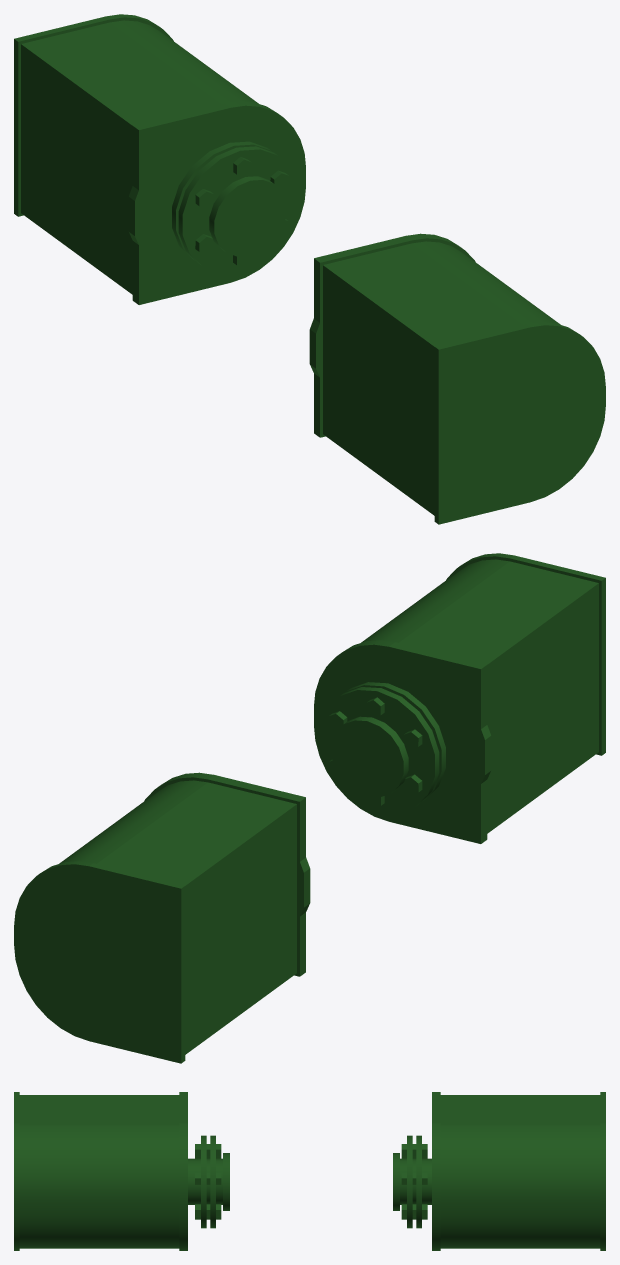
Rendered from Pump-Central-2.fbx.
The picture shows the model from 3 angles, top to bottom: view 1: azimuth 30°, elevation 25°; view 2: azimuth 150°, elevation 25°; view 3: azimuth 270°, elevation 25°; orthographic projection. The views are drawn at different scales.
Visible parts, largest first — view 1: Pumps-Central-2_Inflow-1, Pumps-Central-2_Outflow-1; view 2: Pumps-Central-2_Outflow-1, Pumps-Central-2_Inflow-1; view 3: Pumps-Central-2_Inflow-1, Pumps-Central-2_Outflow-1.
Part boxes in pixels (<box>): Pumps-Central-2_Inflow-1: <box>309,233,605,524</box>; Pumps-Central-2_Outflow-1: <box>14,14,305,304</box>; Pumps-Central-2_Outflow-1: <box>14,772,310,1063</box>; Pumps-Central-2_Inflow-1: <box>314,553,605,843</box>; Pumps-Central-2_Inflow-1: <box>14,1092,229,1250</box>; Pumps-Central-2_Outflow-1: <box>393,1092,605,1250</box>.
Size of the model in its own units: 23.74 by 23.18 by 102.
